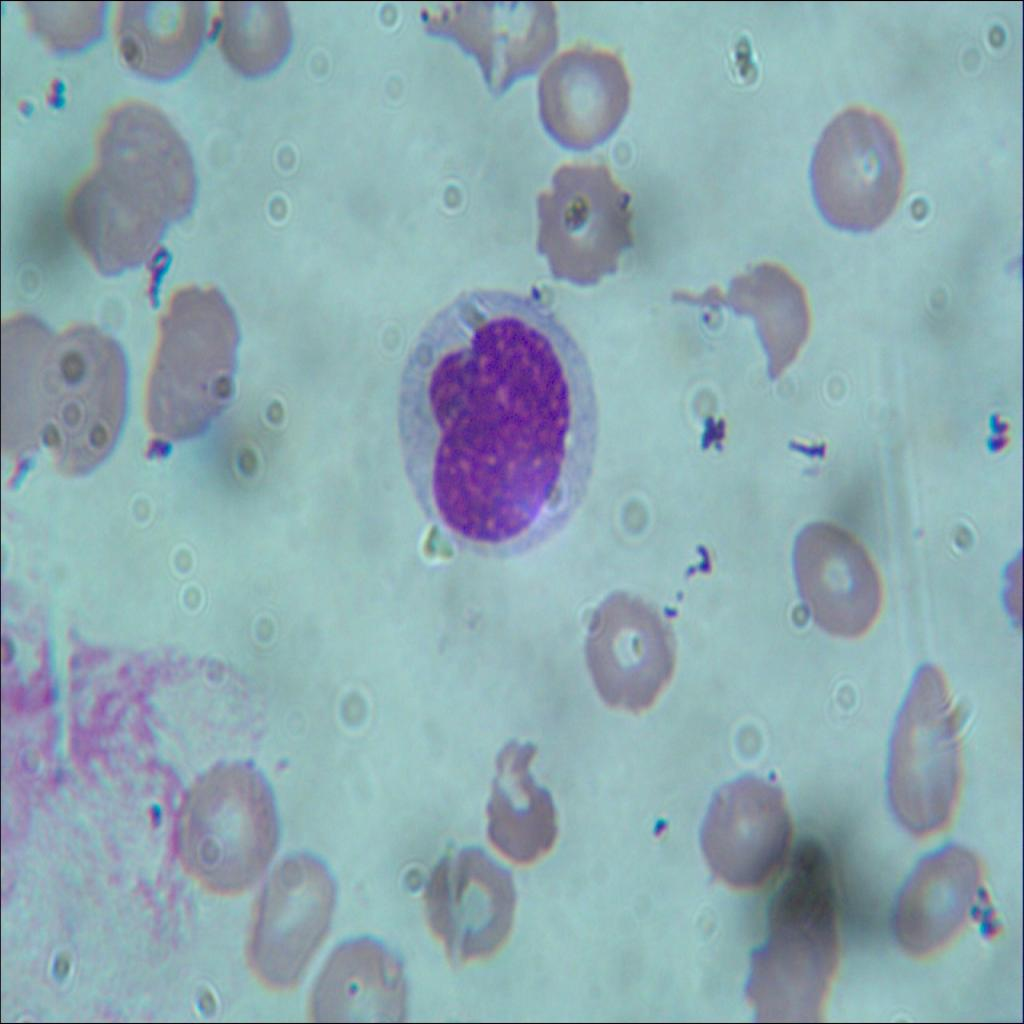Eritrosit: (878, 658, 973, 834), (786, 509, 895, 660), (529, 161, 649, 294), (146, 284, 244, 445), (174, 752, 280, 900), (91, 89, 206, 224), (39, 325, 133, 478), (802, 111, 914, 238), (582, 585, 680, 724), (242, 847, 335, 989), (422, 848, 528, 971), (438, 0, 563, 101), (886, 834, 980, 964), (64, 161, 162, 282), (698, 777, 796, 894), (728, 257, 818, 384), (482, 746, 568, 874), (764, 842, 848, 972), (526, 51, 633, 147), (0, 315, 66, 470), (310, 928, 413, 1023), (114, 0, 212, 92), (736, 932, 831, 1023), (213, 0, 300, 87)
Limfoblast: (390, 278, 604, 561)
Platelet: (11, 85, 36, 139), (648, 808, 678, 850), (138, 787, 166, 832), (410, 4, 436, 35), (690, 294, 714, 326), (762, 757, 784, 778)
